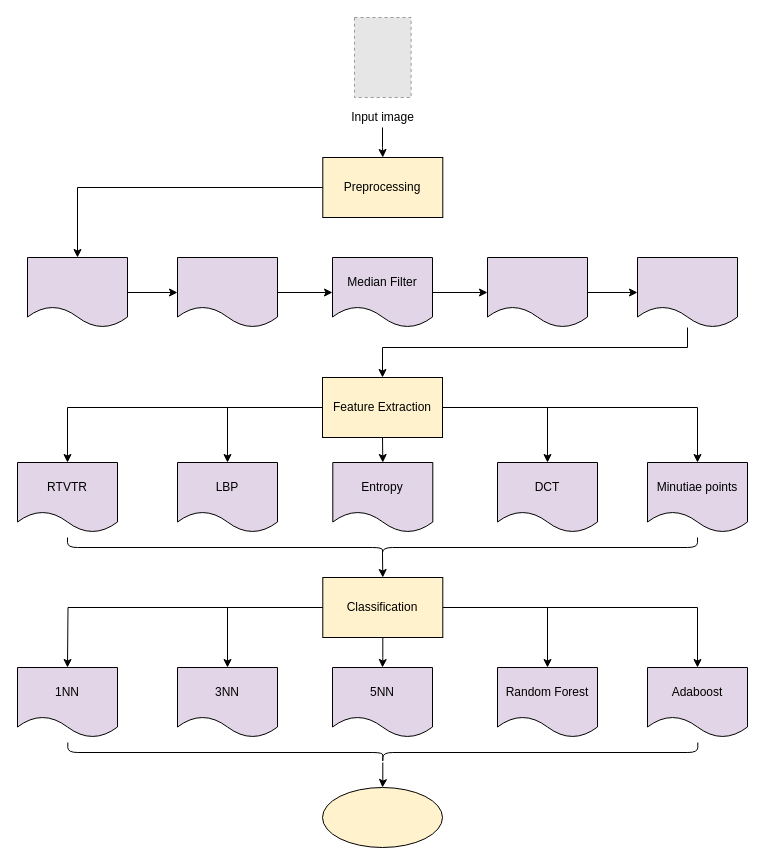
Image size: 765x865. Some labels were removed from this diagram. Grey dashed boxes stand in for pictures. Here are the shapes that lost their labels. From the top down, the box of each, then its label:
(26, 256, 128, 328): Segmentation
(176, 256, 278, 328): Normalization
(486, 256, 588, 328): Binarization
(636, 256, 738, 328): Thinning
(322, 786, 442, 848): Male/Female
